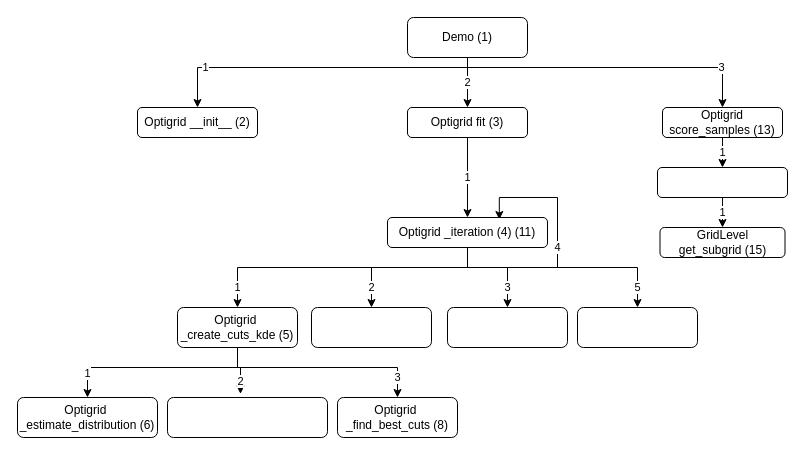
Some shapes in this 805 by 455 pixel diagram are drawn without their labels. The shapes that lost their labels are listed below. From the top down, each one's centre as x and y in pixels, then its label:
At point (722, 182): "Optigrid _score_sample (14)".
At point (371, 327): "GridLevel __init__ (9)".
At point (507, 327): "Optigrid _fill_grid (10)".
At point (637, 327): "GridLevel add_subgrid (12)".
At point (247, 417): "Optigrid _find_peaks_distribution (7)".
